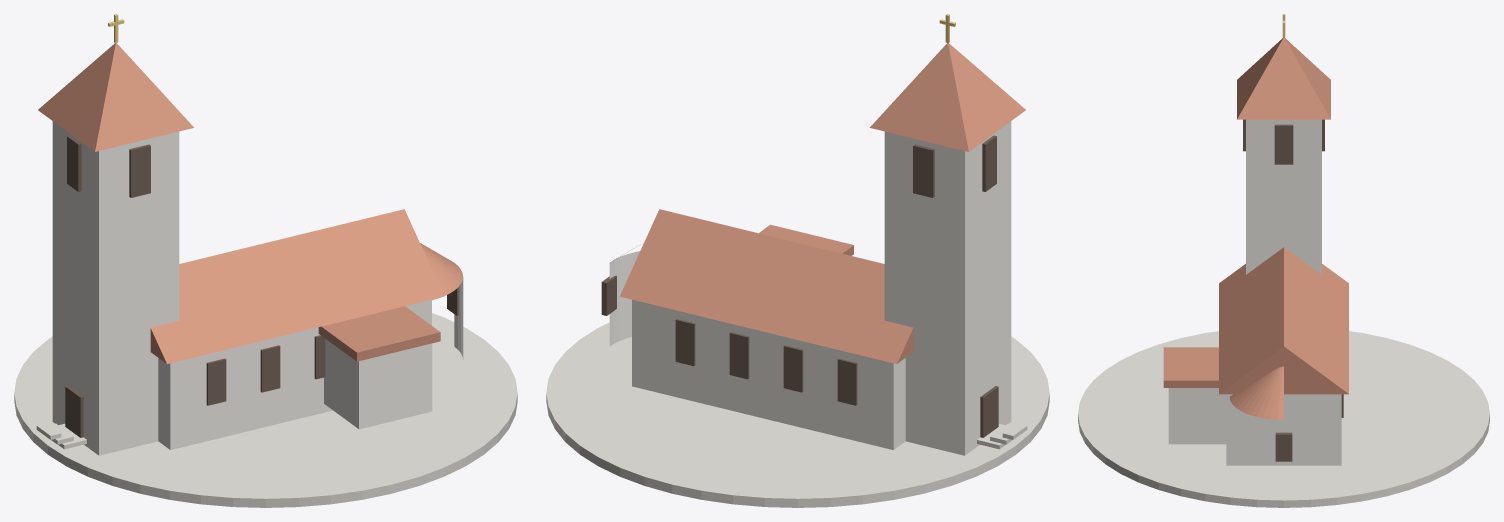
The model's file is cerkev-sv-vida.glb.
The picture shows the model from 3 angles, left to right: view 1: azimuth 30°, elevation 25°; view 2: azimuth 150°, elevation 25°; view 3: azimuth 270°, elevation 25°; orthographic projection. The views are drawn at different scales.
Visible parts, largest first — view 1: del_00, del_03, del_02, del_01, del_04, del_26, del_27, del_10, del_12, del_17, del_18, del_22 (+2 smaller); view 2: del_00, del_03, del_02, del_01, del_04, del_11, del_09, del_27, del_13, del_16, del_14, del_15 (+3 smaller); view 3: del_00, del_02, del_03, del_01, del_04, del_26, del_27, del_12, del_08, del_21.
Boxes of the visible parts, x1=… form: del_00: x1=14, y1=313, x2=517, y2=507; del_03: x1=52, y1=121, x2=179, y2=455; del_02: x1=150, y1=209, x2=444, y2=363; del_01: x1=158, y1=299, x2=431, y2=449; del_04: x1=38, y1=43, x2=193, y2=151; del_26: x1=324, y1=339, x2=432, y2=429; del_27: x1=318, y1=306, x2=440, y2=361; del_10: x1=129, y1=144, x2=150, y2=197; del_12: x1=420, y1=243, x2=463, y2=300; del_17: x1=206, y1=358, x2=226, y2=405; del_18: x1=260, y1=345, x2=280, y2=392; del_22: x1=65, y1=386, x2=83, y2=437; del_00: x1=546, y1=322, x2=1049, y2=507; del_03: x1=884, y1=121, x2=1011, y2=455; del_02: x1=619, y1=209, x2=913, y2=363; del_01: x1=632, y1=299, x2=905, y2=449; del_04: x1=870, y1=43, x2=1025, y2=151; del_11: x1=609, y1=251, x2=639, y2=345; del_09: x1=913, y1=144, x2=934, y2=197; del_27: x1=759, y1=224, x2=853, y2=255; del_13: x1=837, y1=358, x2=857, y2=405; del_16: x1=675, y1=319, x2=695, y2=366; del_14: x1=783, y1=345, x2=803, y2=392; del_15: x1=729, y1=332, x2=749, y2=379; del_00: x1=1078, y1=331, x2=1489, y2=507; del_02: x1=1219, y1=247, x2=1348, y2=394; del_03: x1=1246, y1=119, x2=1321, y2=274; del_01: x1=1226, y1=394, x2=1341, y2=465; del_04: x1=1237, y1=37, x2=1330, y2=119; del_26: x1=1168, y1=388, x2=1226, y2=444; del_27: x1=1163, y1=347, x2=1218, y2=387; del_12: x1=1229, y1=366, x2=1283, y2=419; del_08: x1=1274, y1=124, x2=1293, y2=164; del_21: x1=1275, y1=432, x2=1292, y2=461.
Size of the model in its own units: 25.25 by 23.2 by 25.
